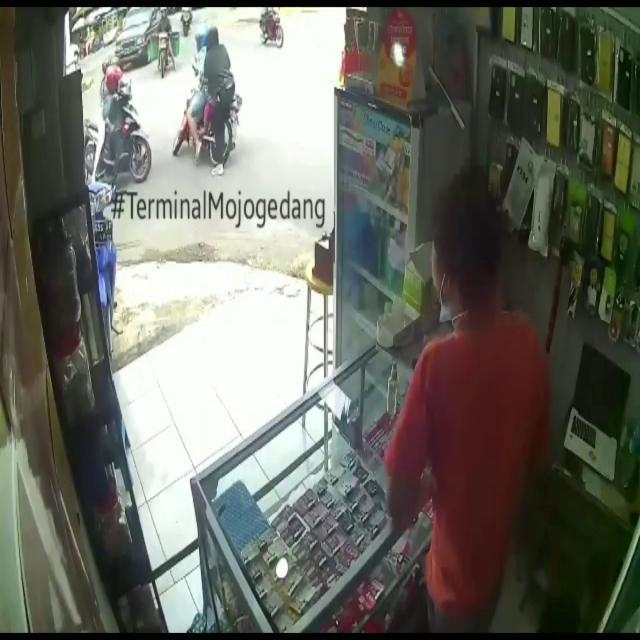multiple_accident: (90, 45, 280, 201)
